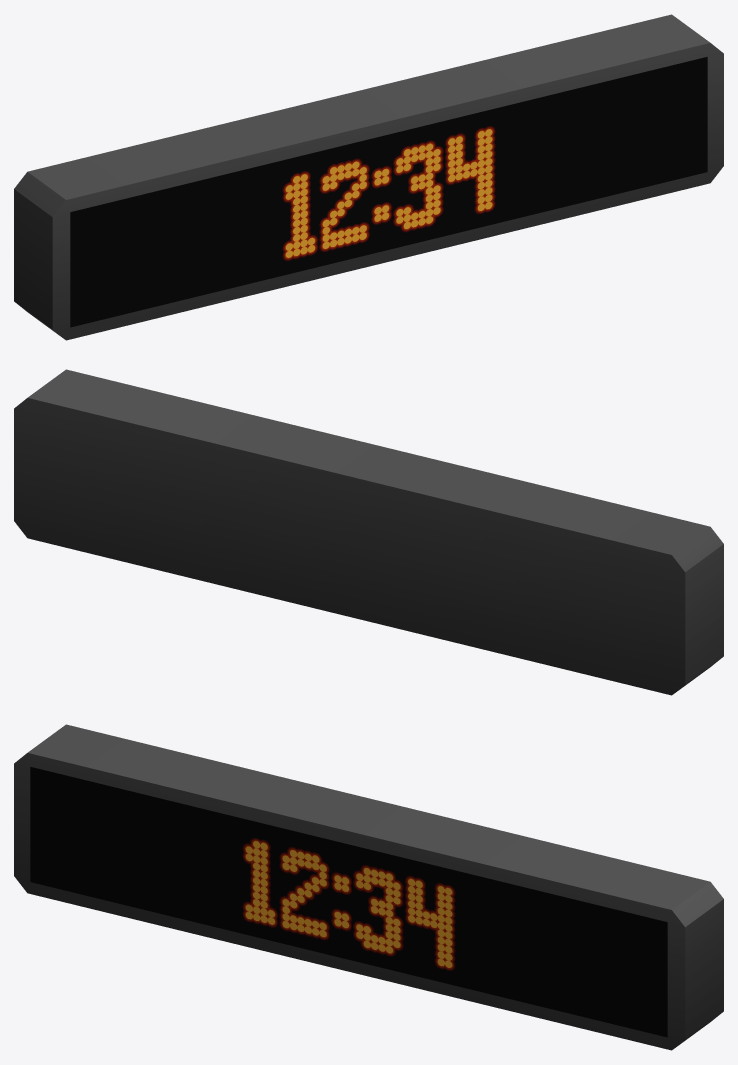
Rendered from bus_clock_mdl.fbx.
3 views of the same model, one above another, from view 1: azimuth 30°, elevation 25°; view 2: azimuth 150°, elevation 25°; view 3: azimuth 330°, elevation 25° (orthographic).
Parts seen in each view (by area): view 1: Clock_geo; view 2: Clock_geo; view 3: Clock_geo.
Part boxes in pixels (x1,y1,x2,y2): Clock_geo: (14, 14, 723, 340); Clock_geo: (14, 369, 723, 695); Clock_geo: (14, 724, 723, 1050).
Size of the model in its own units: 50 by 10 by 5.08.
